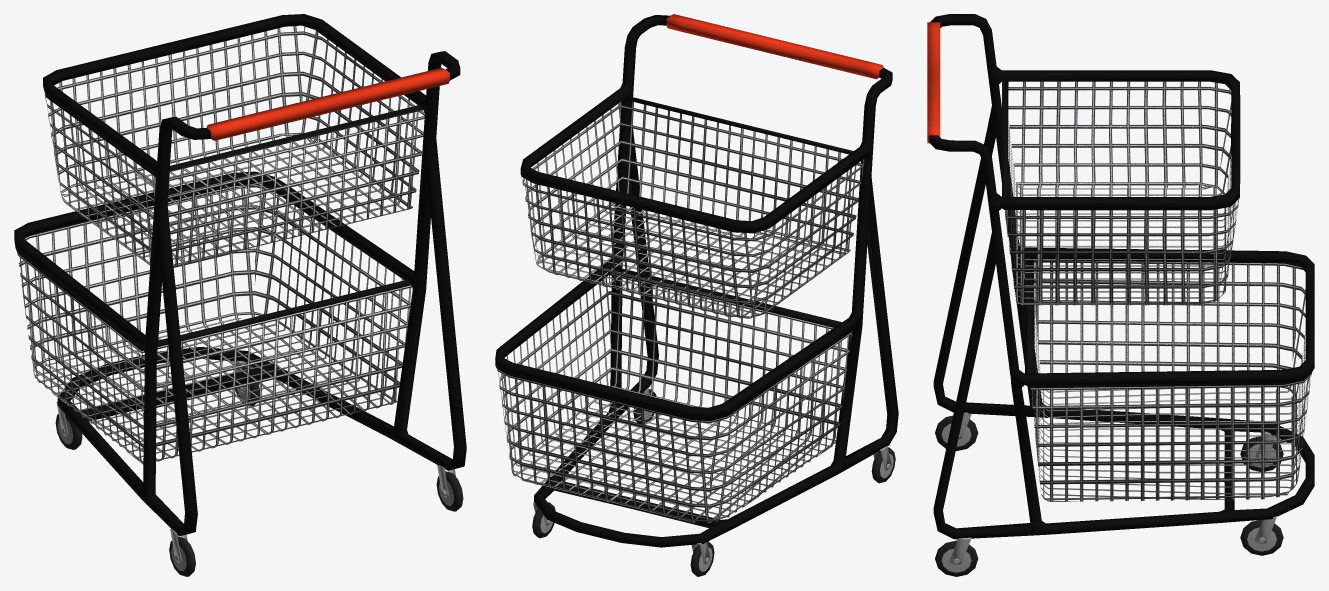
File: cart_small.glb
The picture shows the model from 3 angles, left to right: view 1: azimuth 30°, elevation 25°; view 2: azimuth 150°, elevation 25°; view 3: azimuth 270°, elevation 25°; orthographic projection. The views are drawn at different scales.
Parts seen in each view (by area): view 1: cart_small; view 2: cart_small; view 3: cart_small.
Part boxes in pixels (<box>): cart_small: <box>14,14,466,576</box>; cart_small: <box>495,14,898,576</box>; cart_small: <box>927,14,1314,576</box>.
Size of what is drawn, in the model's own units: 0.658 by 1.02 by 0.8198.
Materials: 2 (2 with a texture image).
